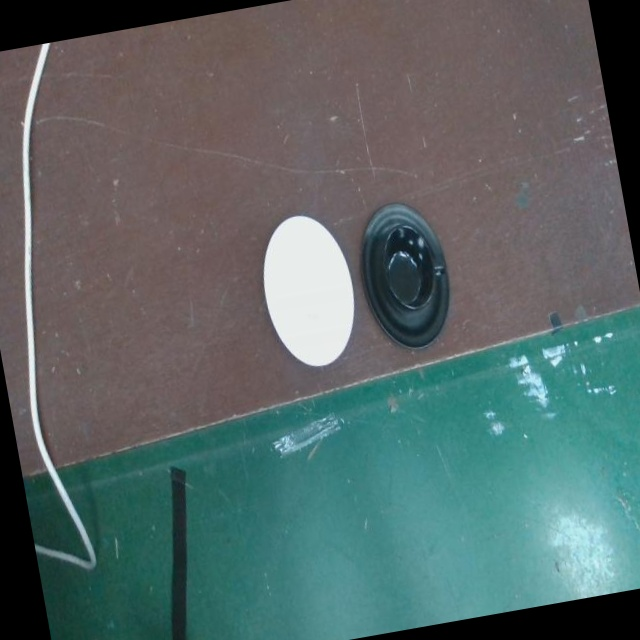black: (359, 196, 450, 354)
white: (262, 211, 356, 375)
